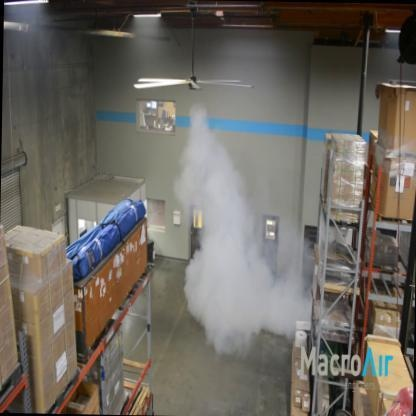smoke: (162, 100, 306, 353)
